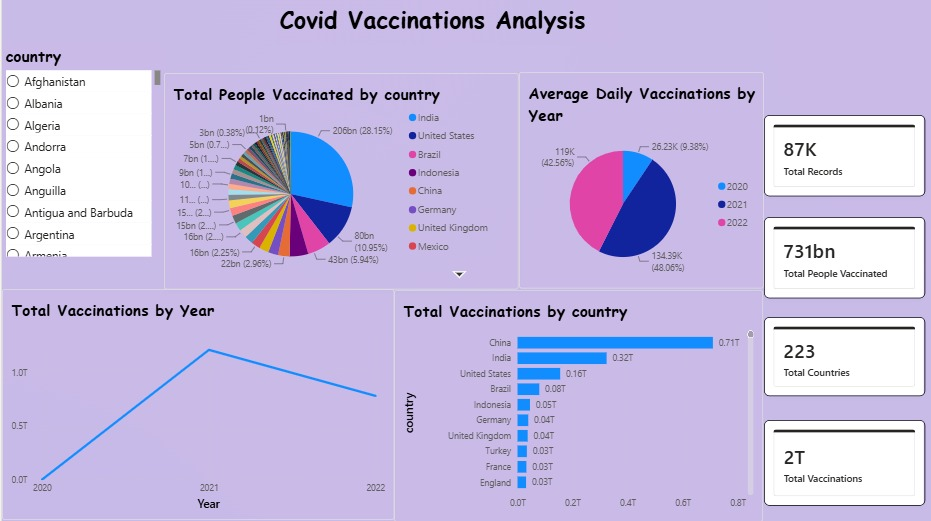

Layout of this report page (visuals, bound fields, positions):
{"tool":"powerbi","page":{"name":"Page 1","canvas":[1280,720],"ordinal":0},"visuals":[{"type":"cardVisual","fields":{"Data":["country_vaccinations_Cleaned.Total Records"]},"box":[1048.3,159.8,221.8,112.3],"z":0},{"type":"cardVisual","fields":{"Data":["country_vaccinations_Cleaned.Total Countries"]},"box":[1048.3,437.8,221.8,109.4],"z":1000},{"type":"cardVisual","fields":{"Data":["country_vaccinations_Cleaned.Total Vaccinations"]},"box":[1048.3,578.9,221.8,118.1],"z":2000},{"type":"cardVisual","fields":{"Data":["country_vaccinations_Cleaned.Total People Vaccinated"]},"box":[1048.3,299.5,221.8,112.3],"z":3000},{"type":"barChart","fields":{"Category":["country_vaccinations_Cleaned.country"],"Y":["country_vaccinations_Cleaned.Total Vaccinations"]},"box":[540,400.3,508.3,319.7],"z":4000},{"type":"pieChart","fields":{"Category":["country_vaccinations_Cleaned.country"],"Y":["country_vaccinations_Cleaned.Total People Vaccinated"]},"box":[223.2,102.2,488.2,298.1],"z":5000},{"type":"lineChart","fields":{"Category":["country_vaccinations_Cleaned.date.Variation.Date Hierarchy.Year","country_vaccinations_Cleaned.date.Variation.Date Hierarchy.Quarter","country_vaccinations_Cleaned.date.Variation.Date Hierarchy.Month","country_vaccinations_Cleaned.date.Variation.Date Hierarchy.Day"],"Y":["country_vaccinations_Cleaned.Total Vaccinations"]},"box":[0,398.9,540,318.2],"z":6000},{"type":"listSlicer","fields":{"Values":["country_vaccinations_Cleaned.country"]},"box":[0,63.4,223.2,296.6],"z":7000},{"type":"textbox","box":[377.3,0,473.8,63.4],"z":8000},{"type":"pieChart","fields":{"Y":["country_vaccinations_Cleaned.Average Daily Vaccinations"],"Category":["country_vaccinations_Cleaned.date.Variation.Date Hierarchy.Year","country_vaccinations_Cleaned.date.Variation.Date Hierarchy.Quarter","country_vaccinations_Cleaned.date.Variation.Date Hierarchy.Month","country_vaccinations_Cleaned.date.Variation.Date Hierarchy.Day"]},"box":[711.4,100.8,337,298.1],"z":8001}]}

Visuals, with their boxes in screenshot pixels (x1, y1, x2, y2), scaled from the page's 1280x720 canvas onto the 931x521 screenshot:
cardVisual - country_vaccinations_Cleaned.Total Records: 762:116:924:197
cardVisual - country_vaccinations_Cleaned.Total Countries: 762:317:924:396
cardVisual - country_vaccinations_Cleaned.Total Vaccinations: 762:419:924:504
cardVisual - country_vaccinations_Cleaned.Total People Vaccinated: 762:217:924:298
barChart - country_vaccinations_Cleaned.country x country_vaccinations_Cleaned.Total Vaccinations: 393:290:762:520
pieChart - country_vaccinations_Cleaned.country x country_vaccinations_Cleaned.Total People Vaccinated: 162:74:517:290
lineChart - country_vaccinations_Cleaned.date.Variation.Date Hierarchy.Year x country_vaccinations_Cleaned.date.Variation.Date Hierarchy.Quarter: 0:289:393:519
listSlicer - country_vaccinations_Cleaned.country: 0:46:162:260
textbox: 274:0:619:46
pieChart - country_vaccinations_Cleaned.Average Daily Vaccinations x country_vaccinations_Cleaned.date.Variation.Date Hierarchy.Year: 517:73:763:289
